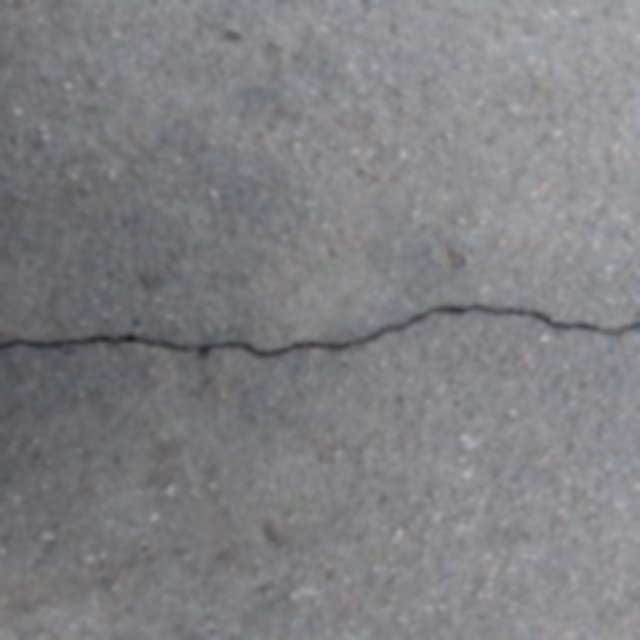SurfaceCrack: (10, 296, 640, 376)
